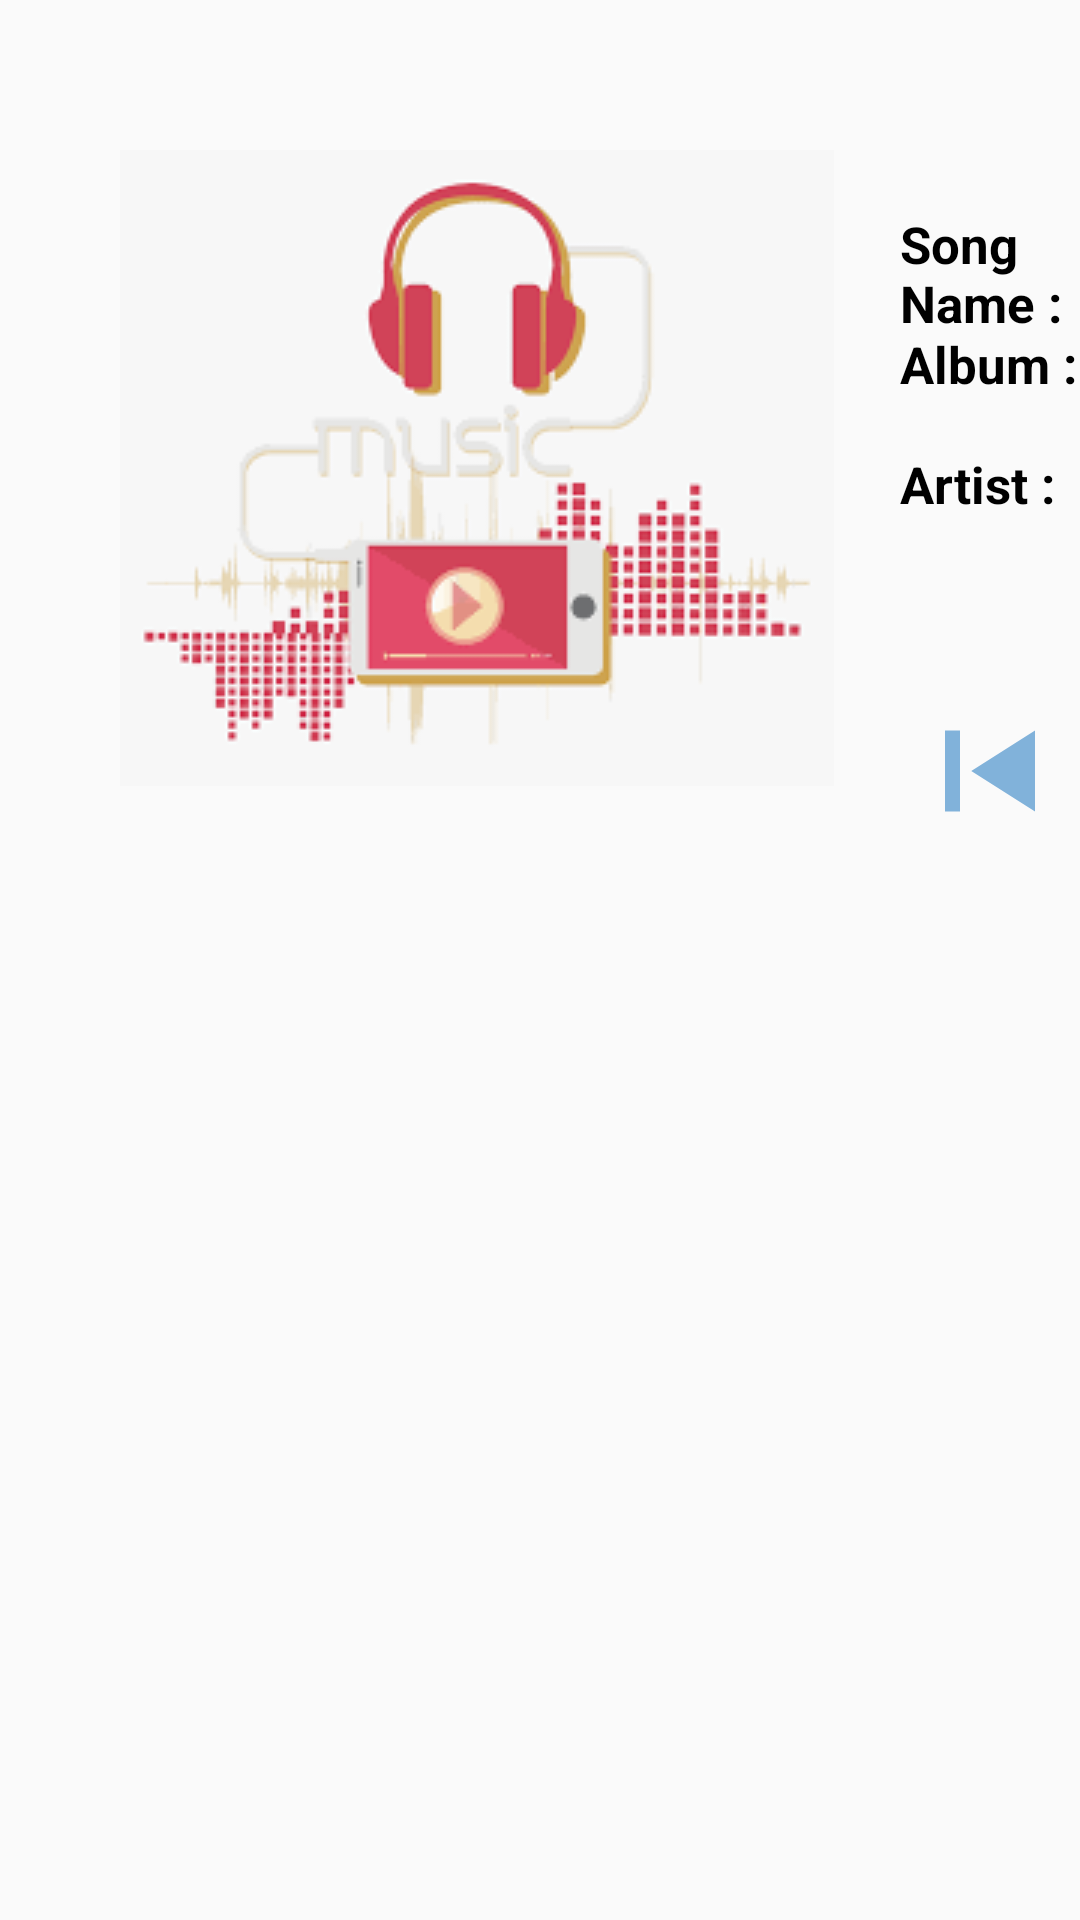

Where icons sit on this 1080*1920 app screen, as (x1, y1, x2, y2):
skip previous: (945, 730, 1035, 812)
